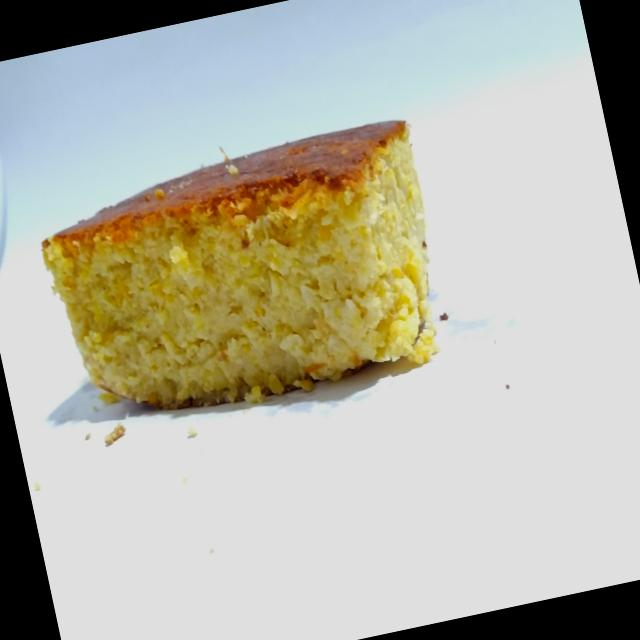Chipa_Guazu: (21, 102, 468, 456)
